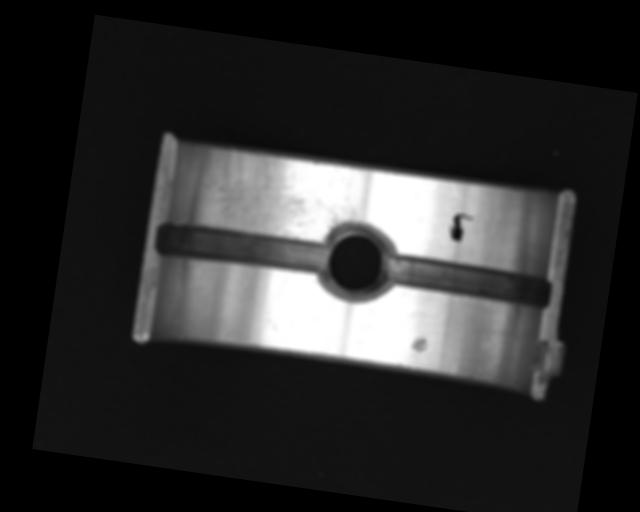blot: (446, 211, 474, 243)
bruise: (409, 334, 428, 353)
gap: (152, 217, 330, 280), (383, 252, 551, 308)
hole: (315, 218, 398, 305)
scratch: (186, 143, 366, 247)
